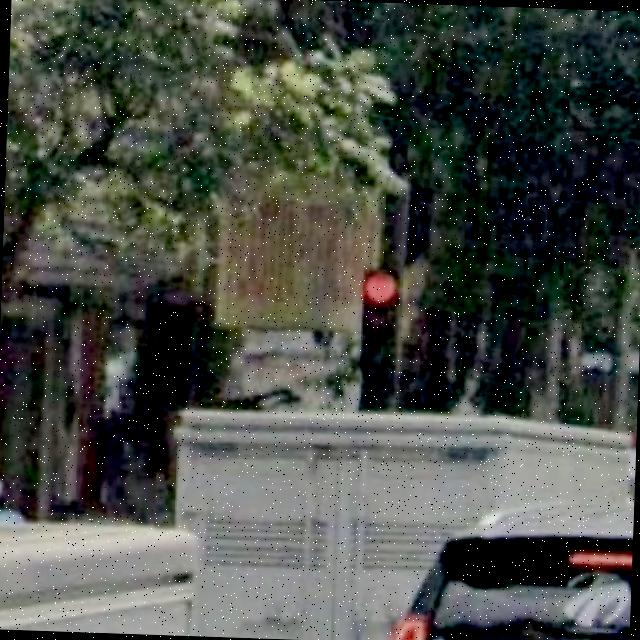Czerwone swiatlo: (356, 270, 402, 386)
